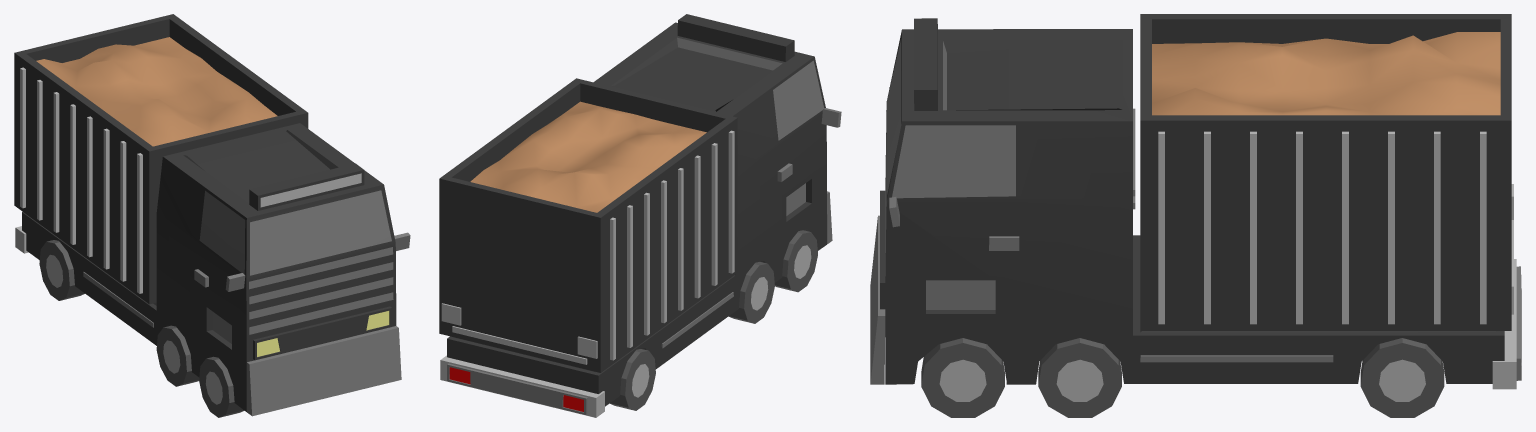
The model's file is SM_Truck_02_05.FBX.
3 renders of one model, left to right at view 1: azimuth 30°, elevation 25°; view 2: azimuth 150°, elevation 25°; view 3: azimuth 270°, elevation 25°, orthographic. The views are drawn at different scales.
Visible parts, largest first — view 1: SM_Truck_02_05, SM_Wheel_RBack, SM_Wheel_RFront, SM_Wheel_RMid; view 2: SM_Truck_02_05, SM_Wheel_RMid, SM_Wheel_RBack, SM_Wheel_RFront; view 3: SM_Truck_02_05, SM_Wheel_LFront001, SM_Wheel_LBack, SM_Wheel_LMid.
Boxes of the visible parts, x1,y1,x2,y2 form: SM_Truck_02_05: (14,14,410,416); SM_Wheel_RBack: (39,240,84,300); SM_Wheel_RFront: (199,356,244,417); SM_Wheel_RMid: (156,325,199,386); SM_Truck_02_05: (439,14,841,417); SM_Wheel_RMid: (728,262,774,323); SM_Wheel_RBack: (610,349,655,410); SM_Wheel_RFront: (774,230,817,292); SM_Truck_02_05: (870,14,1521,389); SM_Wheel_LFront001: (921,338,1004,417); SM_Wheel_LBack: (1360,338,1444,417); SM_Wheel_LMid: (1038,338,1121,417).
Size of the model in its own units: 1.85 by 2.21 by 4.19.
1 material, 1 textured.
